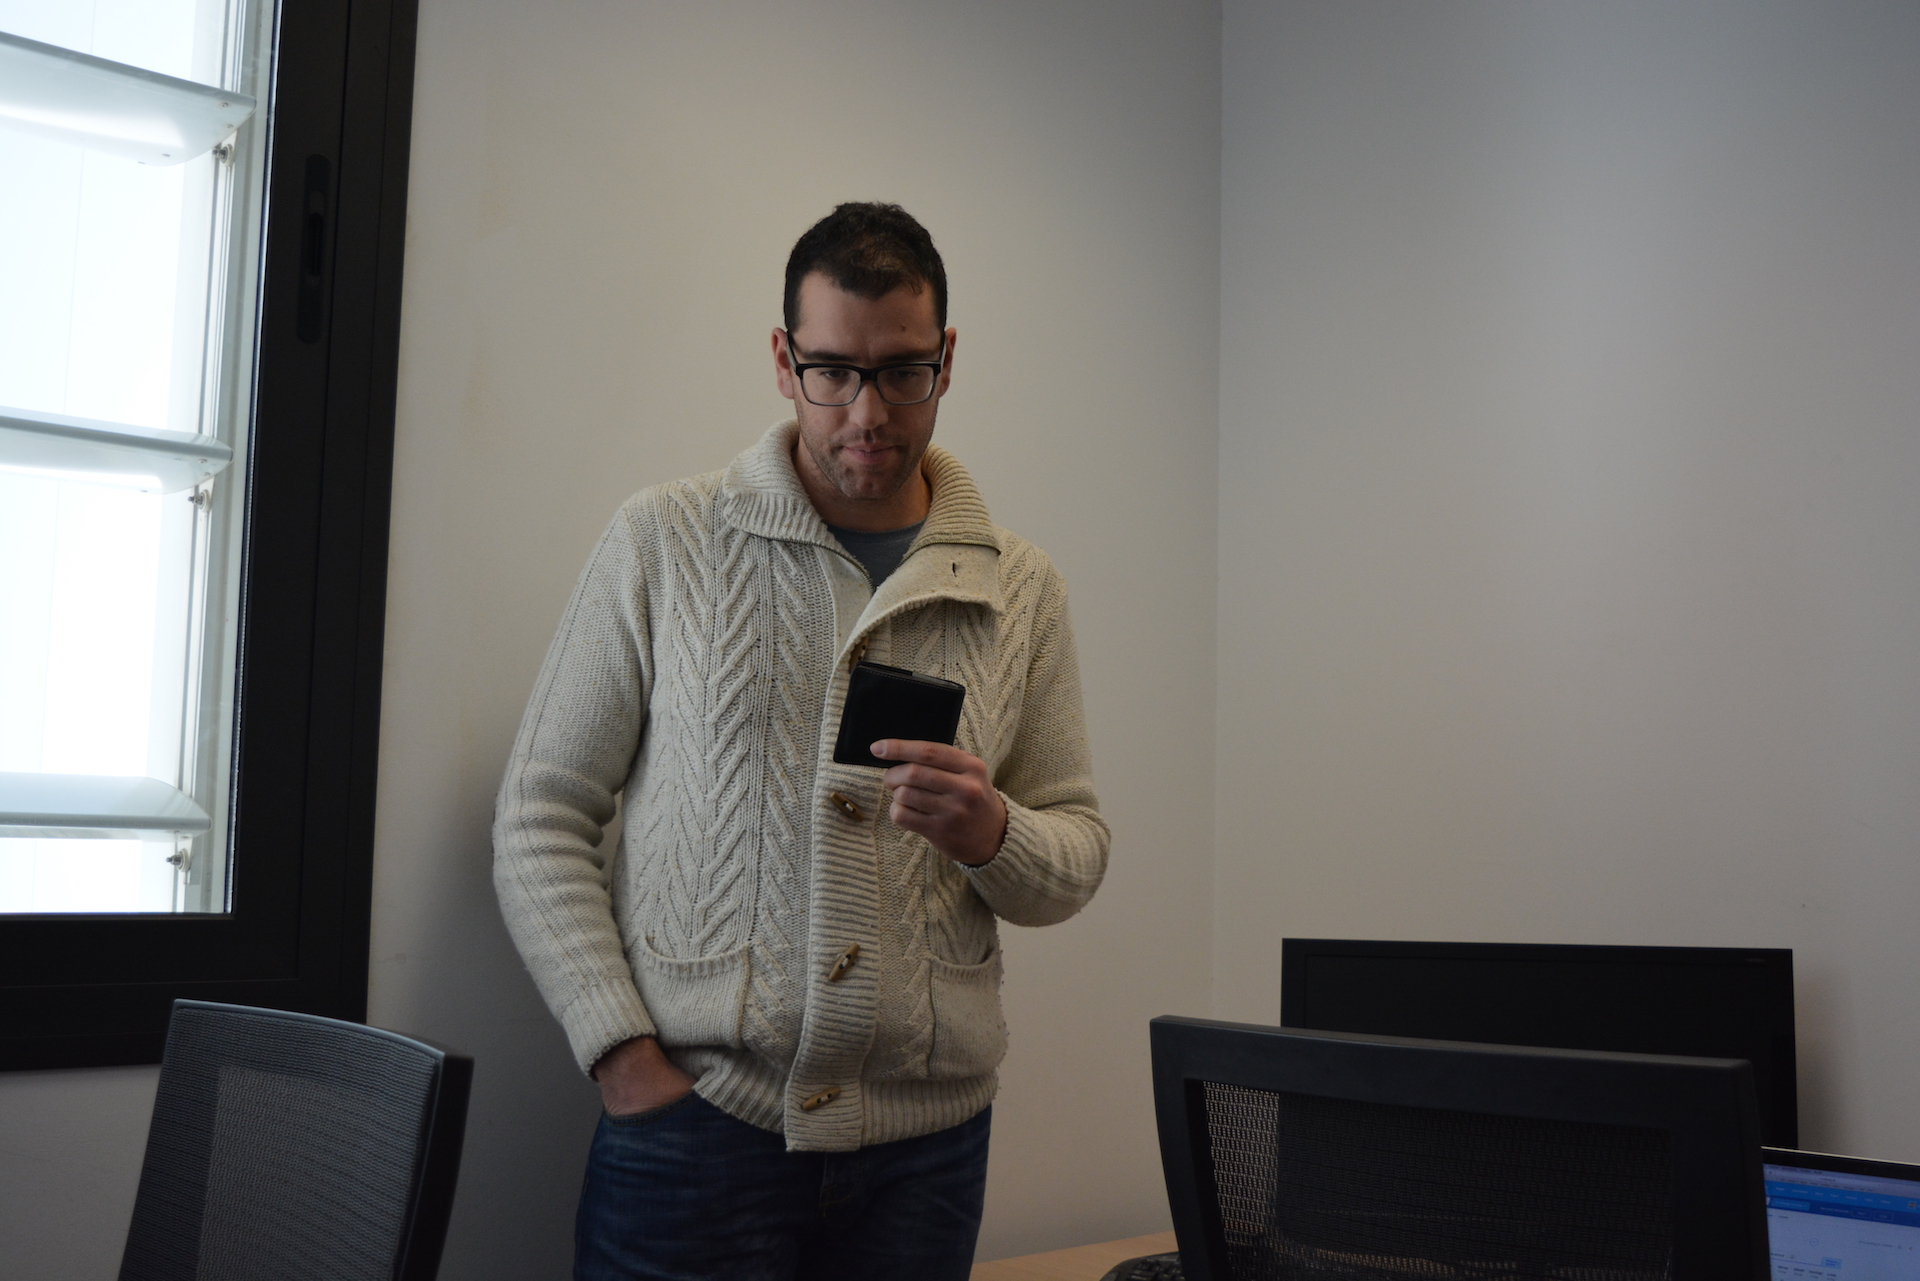monedero: (832, 659, 966, 771)
